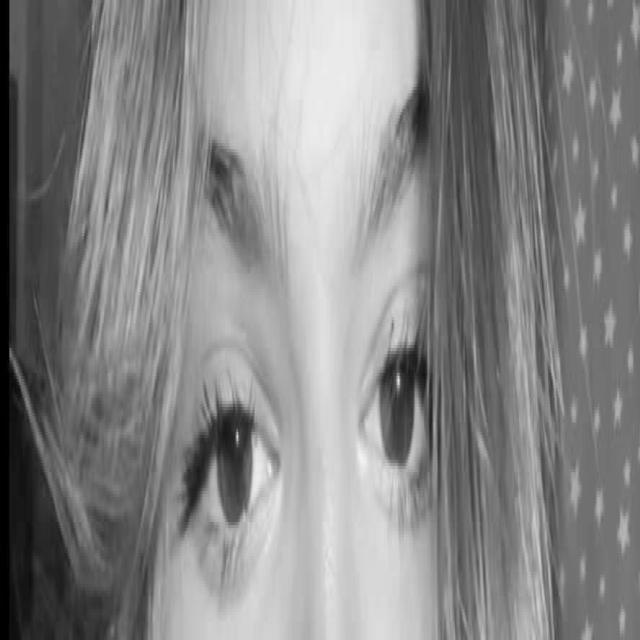real: (175, 234, 452, 604)
